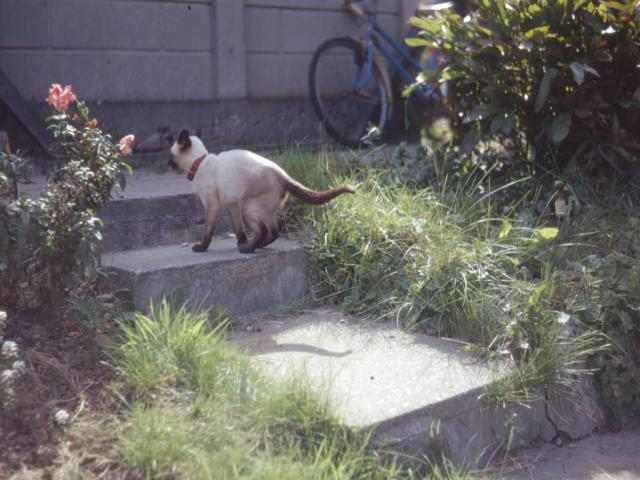Cat: (168, 130, 356, 253)
